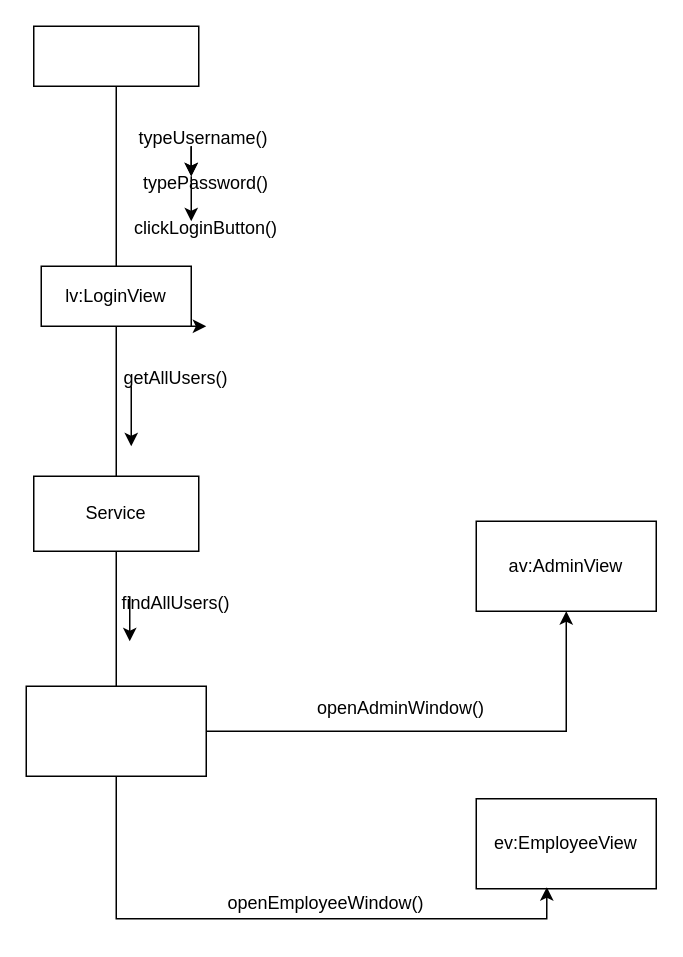
Some shapes in this 683 by 957 pixel diagram are drawn without their labels. Here are the shapes that lost their labels. From the top down, the centre of each, then its label:
At pixel 115 55: ":USER".
At pixel 115 730: "UserDbRepo".
